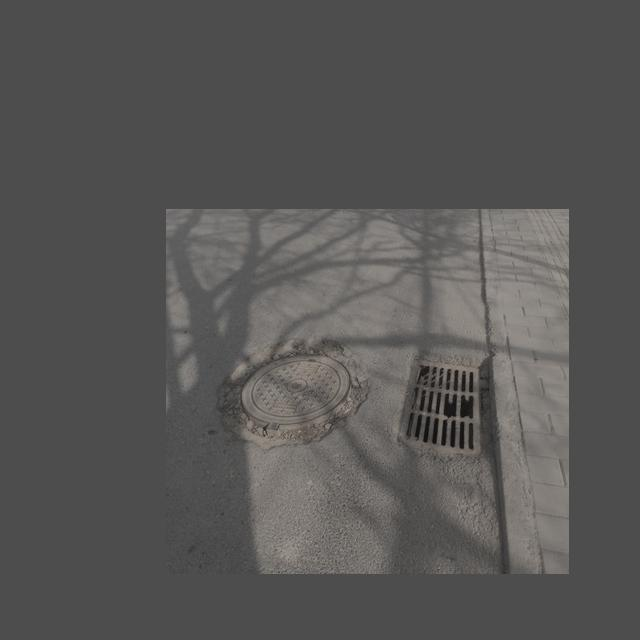circle: (216, 327, 373, 454)
